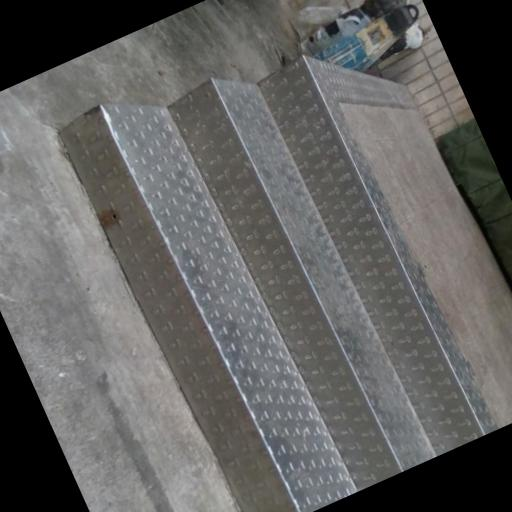stairs: (60, 57, 494, 511)
